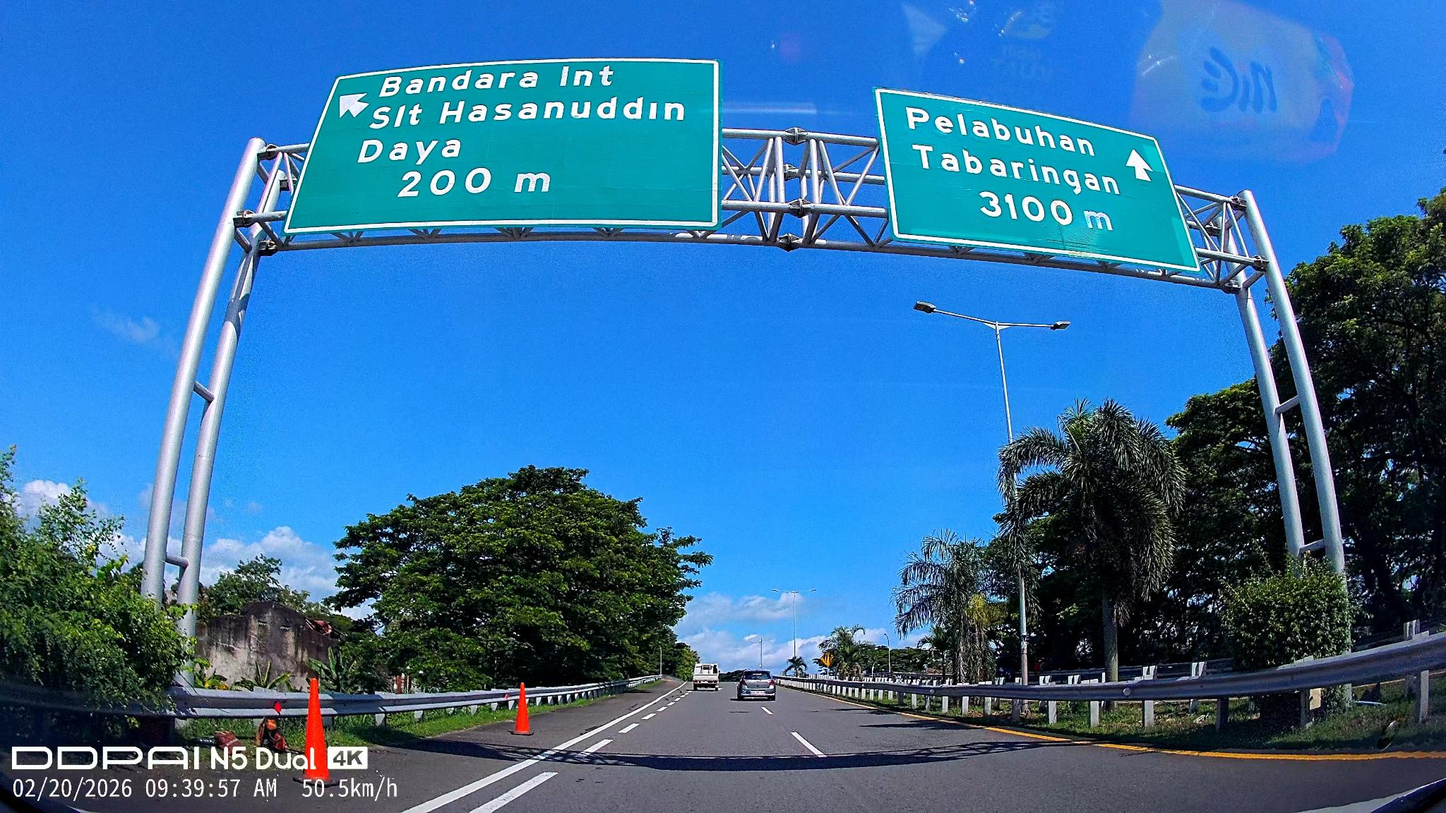rambu_teks: (280, 58, 721, 234), (875, 85, 1198, 276)
